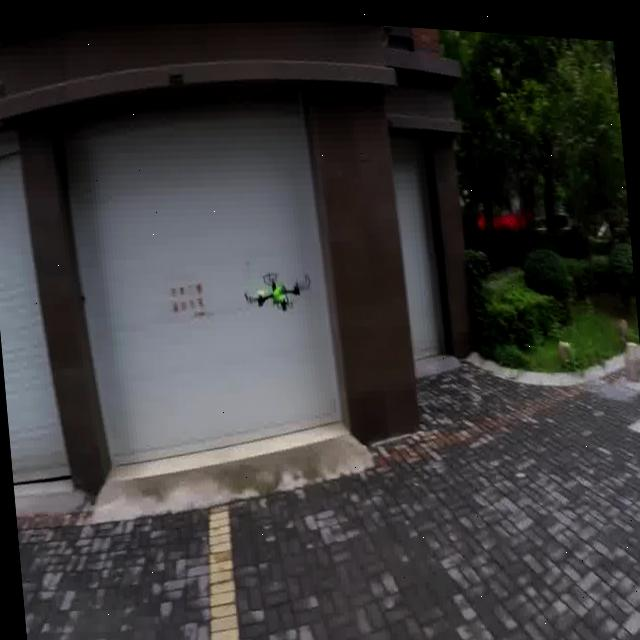drone: (242, 249, 316, 324)
